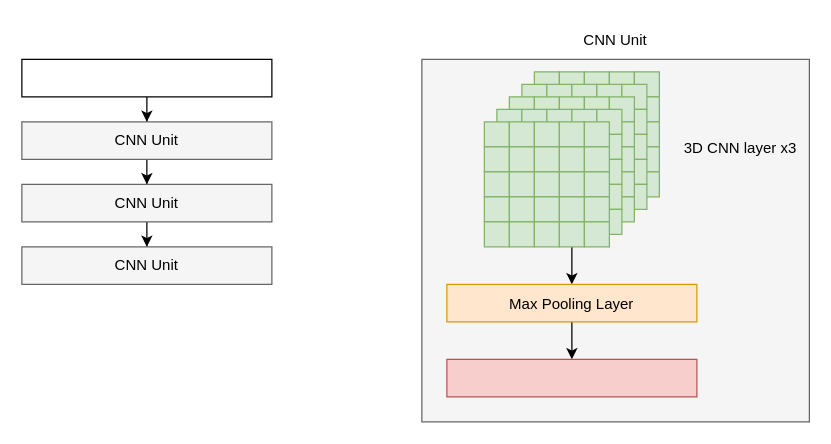
Some shapes in this 831 by 444 pixel diagram are drawn without their labels. The centre of each missing label's shape, as x and y in pixels:
"Batch Normalization Layer" belongs at (x=571, y=377).
"Input Layer" belongs at (x=146, y=77).
